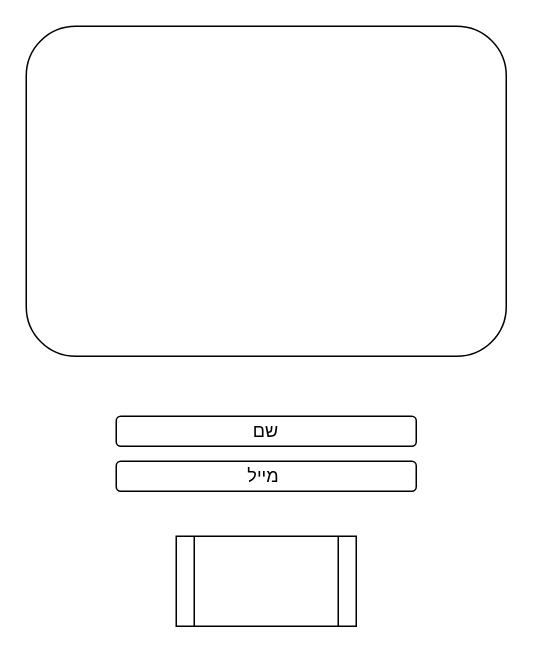
Some shapes in this 533 by 653 pixel diagram are drawn without their labels. The centre of each missing label's shape, as x and y in pixels:
"התחל" goes at point (265, 580).
"תמונה הקשורה למשחק" goes at point (265, 190).
